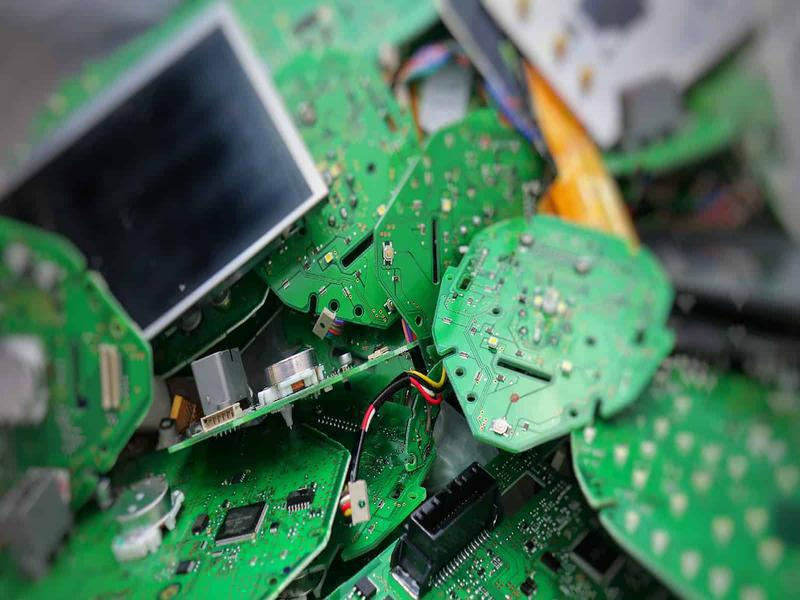circuit_board: (427, 216, 681, 460), (36, 428, 357, 600), (322, 441, 652, 600), (362, 91, 556, 339)
